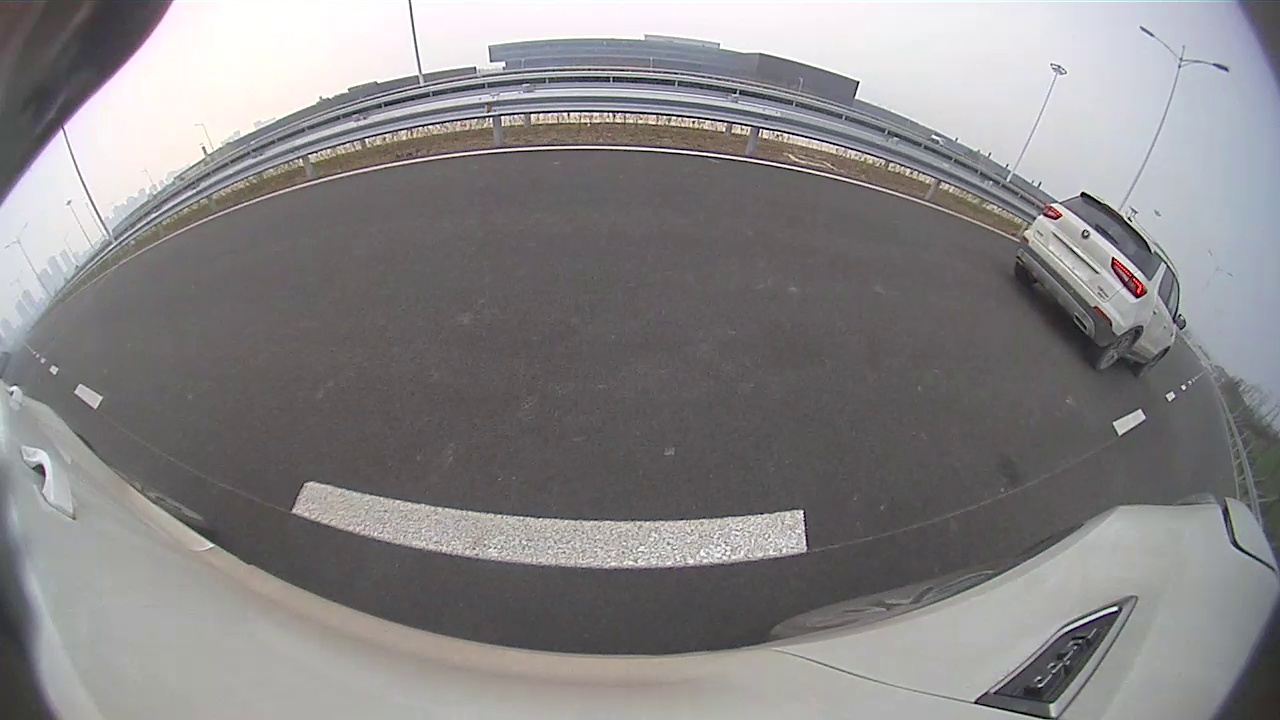car: (1013, 192, 1185, 374)
rear: (1097, 330, 1136, 373)
